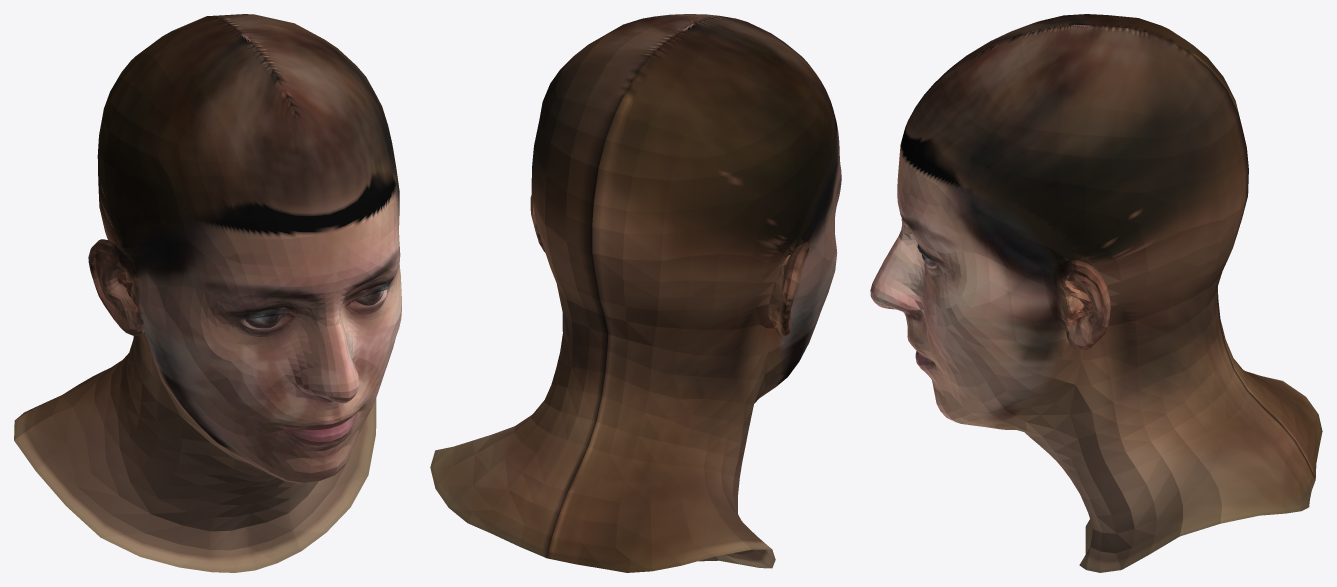
Rendered from face_video_frame0172.obj.
3 renders of one model, left to right at view 1: azimuth 30°, elevation 25°; view 2: azimuth 150°, elevation 25°; view 3: azimuth 270°, elevation 25°, orthographic. The views are drawn at different scales.
Size of the model in its own units: 0.2125 by 0.3278 by 0.2556.
1 material, 1 textured.
